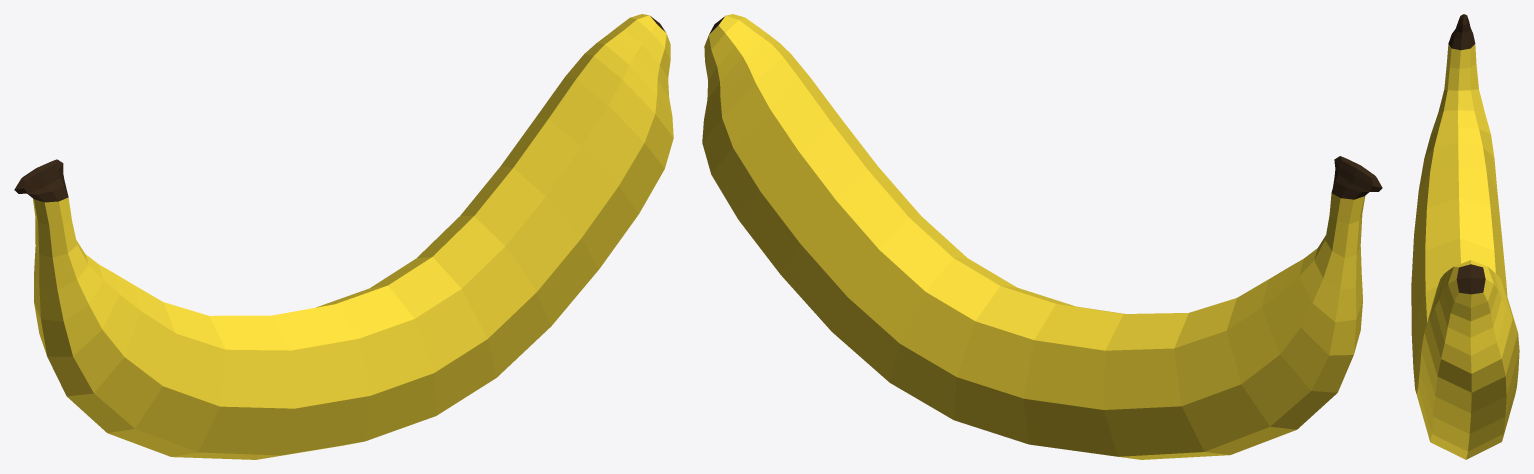
File: banana.glb
3 renders of one model, left to right at view 1: azimuth 30°, elevation 25°; view 2: azimuth 150°, elevation 25°; view 3: azimuth 270°, elevation 25°, orthographic. The views are drawn at different scales.
Visible parts, largest first — view 1: banana_Cube.001; view 2: banana_Cube.001; view 3: banana_Cube.001.
Part boxes in pixels (x1,y1,x2,y2): banana_Cube.001: (14, 14, 673, 459); banana_Cube.001: (702, 14, 1382, 459); banana_Cube.001: (1411, 14, 1519, 459).
Bounding box in the file's own units: 26.19 × 13.57 × 4.52.
